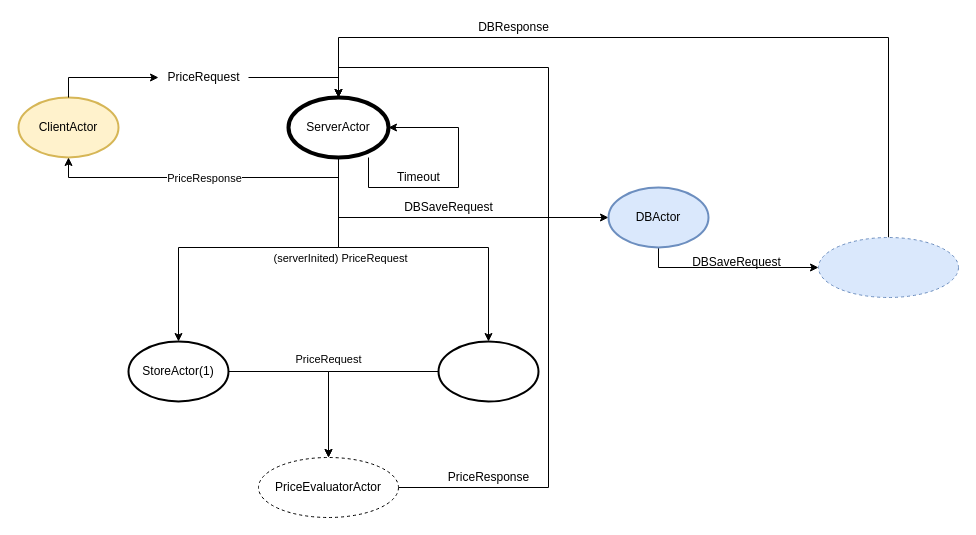
Image size: 976x535. Some labels were removed from this diagram. The shapes that lost their labels are listed below. From the top down, each one's centre as x and y in pixels, then its label:
At pixel 888 267: "DBRequestHandler".
At pixel 488 371: "StoreActor(2)".
